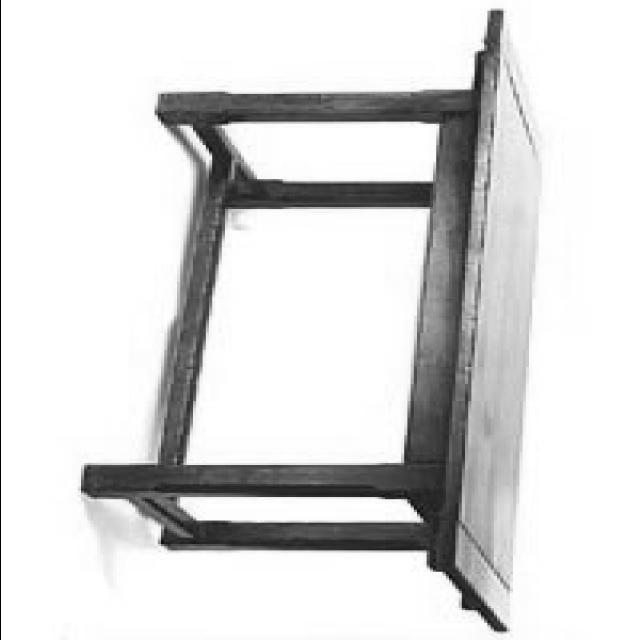table: (80, 9, 545, 631)
